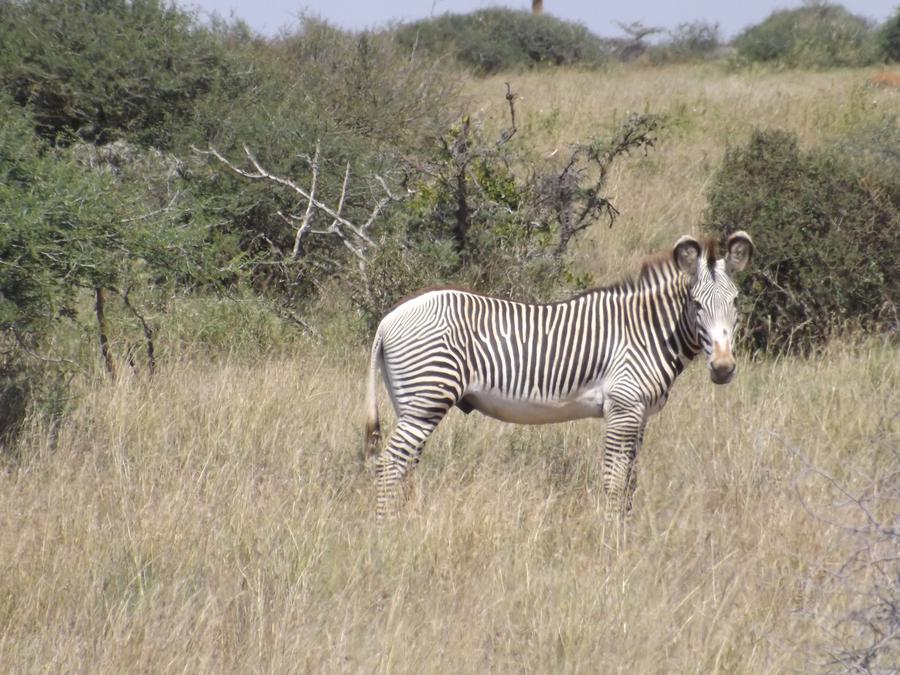zebra_grevys: (364, 279, 653, 420)
